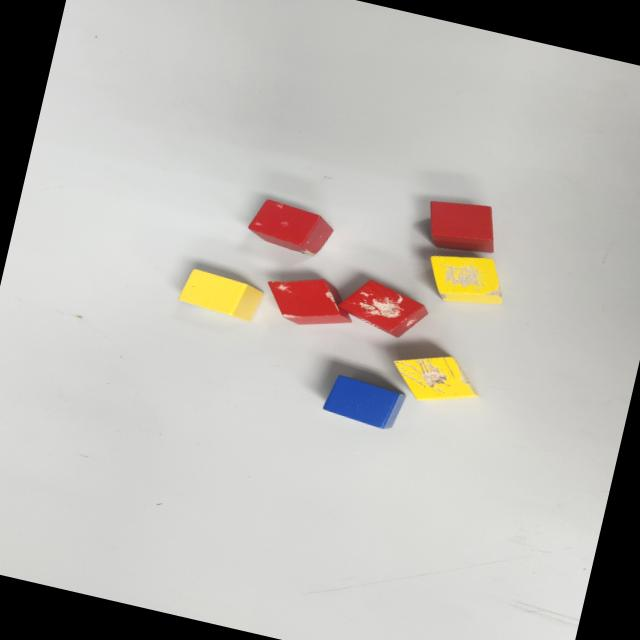blue: (318, 370, 407, 432)
broken: (385, 343, 487, 413), (334, 274, 433, 344), (258, 266, 356, 336), (420, 245, 510, 313), (244, 196, 336, 259)
red: (418, 192, 502, 260)
yellow: (176, 266, 264, 323)
